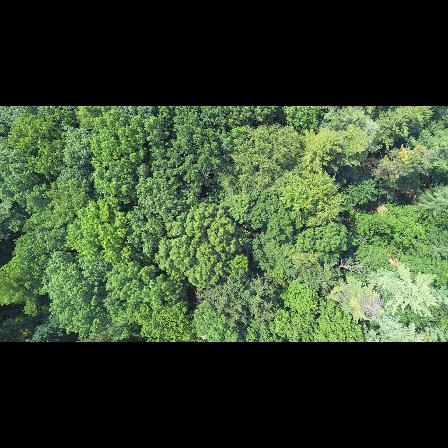Dead: (332, 251, 375, 275)
